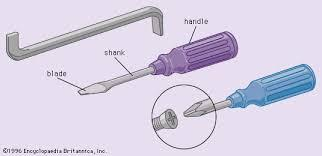screwdriver: (77, 30, 237, 93), (4, 4, 163, 51), (182, 97, 214, 117)
